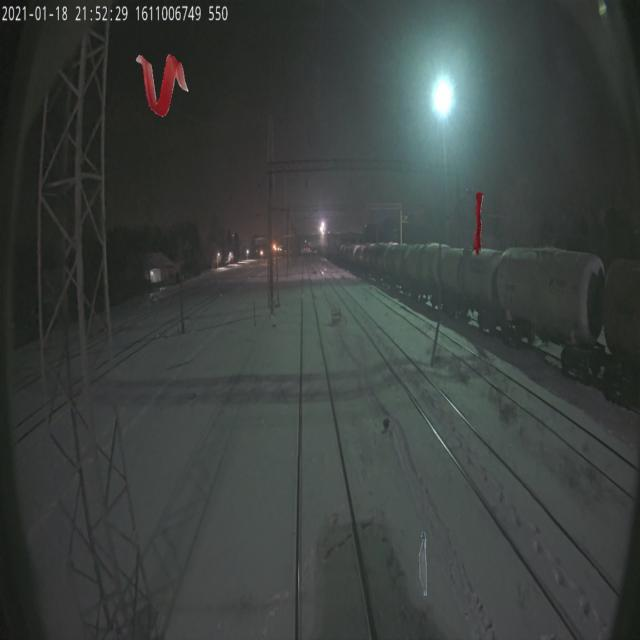floating object: (136, 52, 190, 116), (418, 532, 432, 596), (473, 192, 484, 256)
